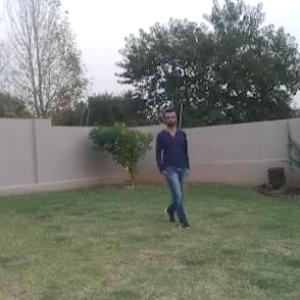follow: (159, 112, 192, 222)
